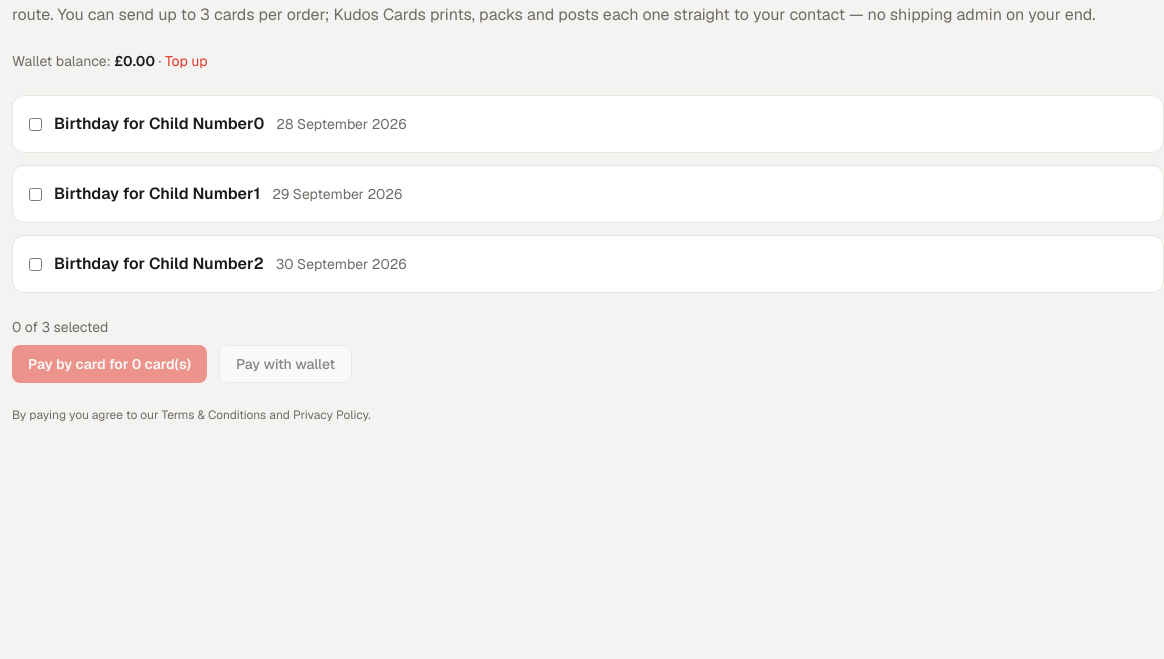
it: BatchOrdersClient › says nothing at exactly the cap
Click the checkbox labelled "Birthday for Child Number0 28 September 2026" at (36, 124), box [29, 118, 42, 130]
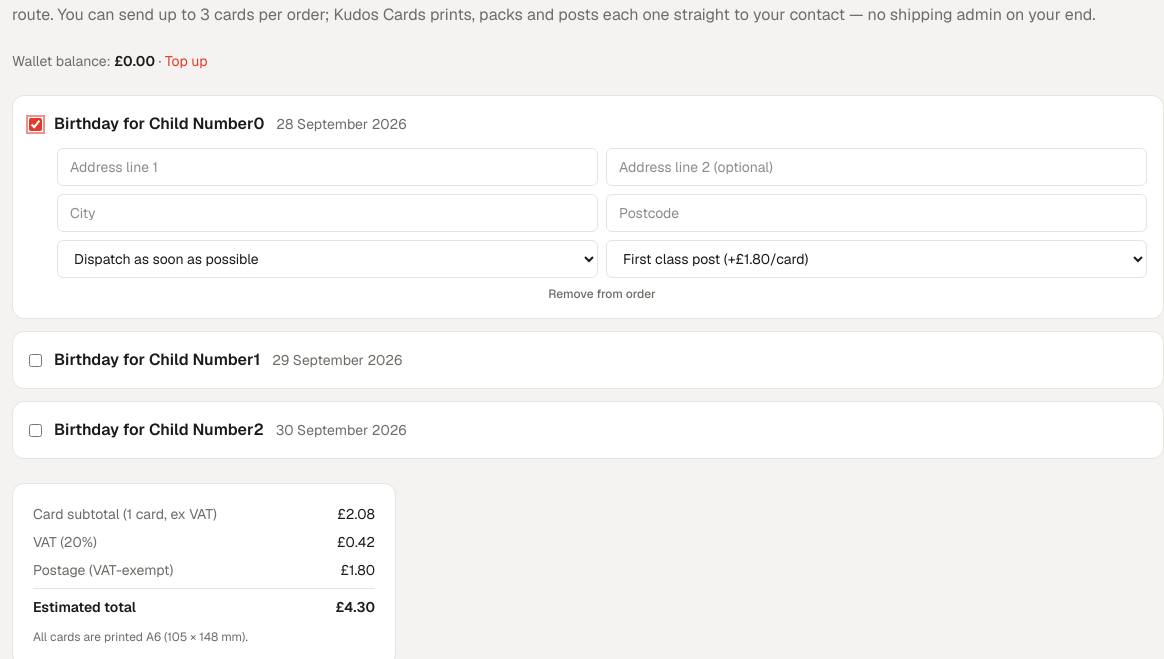
Click the checkbox labelled "Birthday for Child Number1 29 September 2026" at (36, 360), box [29, 354, 42, 366]
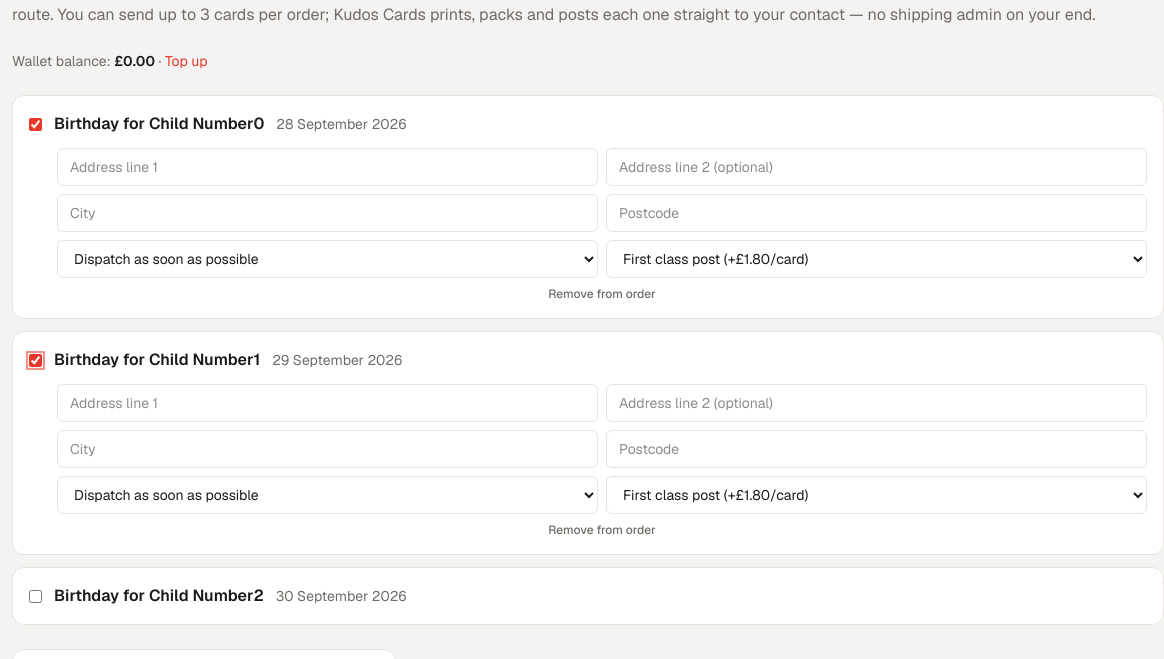
Click the checkbox labelled "Birthday for Child Number2 30 September 2026" at (36, 596), box [29, 590, 42, 602]
(page scrolled)
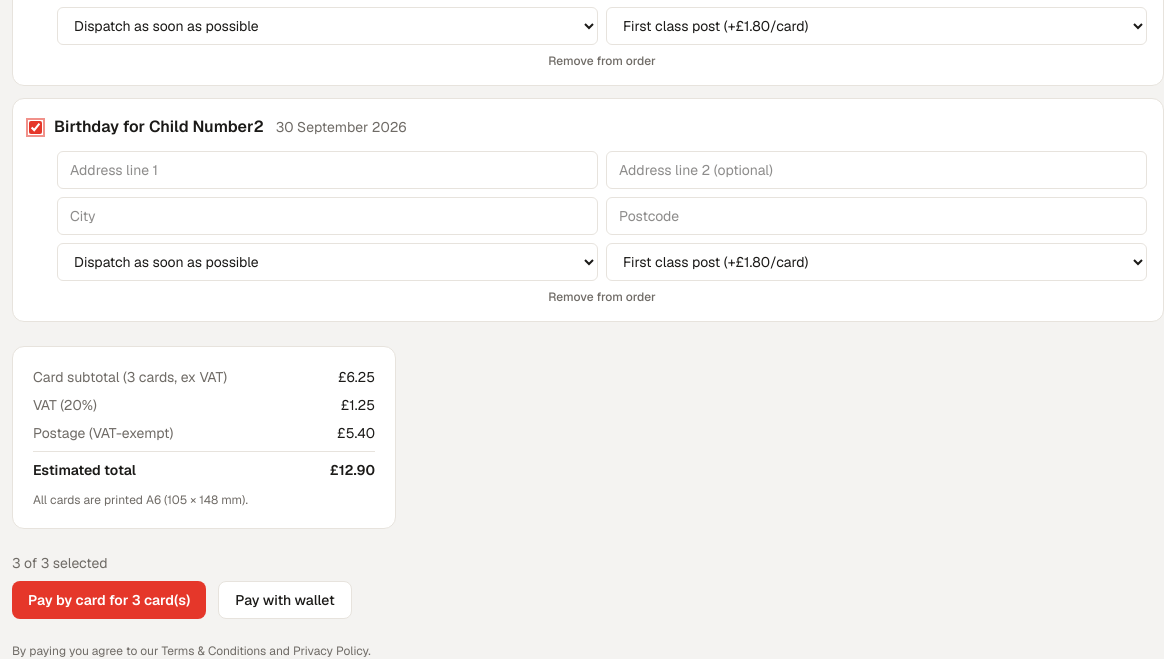
Result: the text "3 of 3 selected" is shown at [12, 554, 108, 572]
